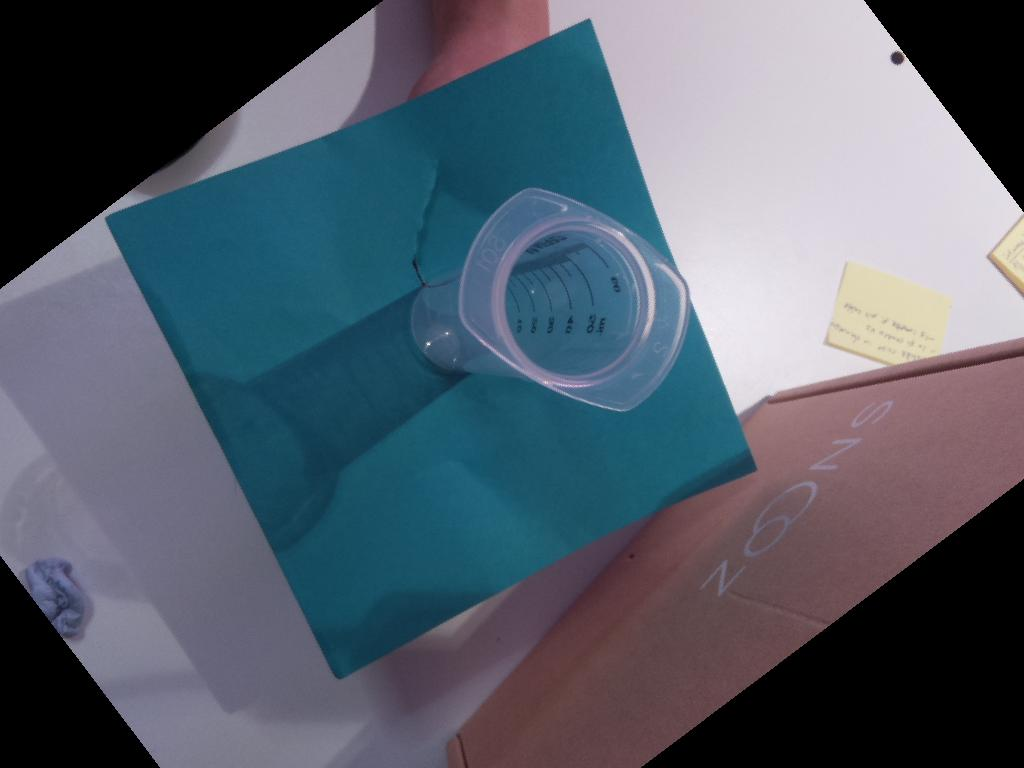clean: (457, 183, 689, 414)
